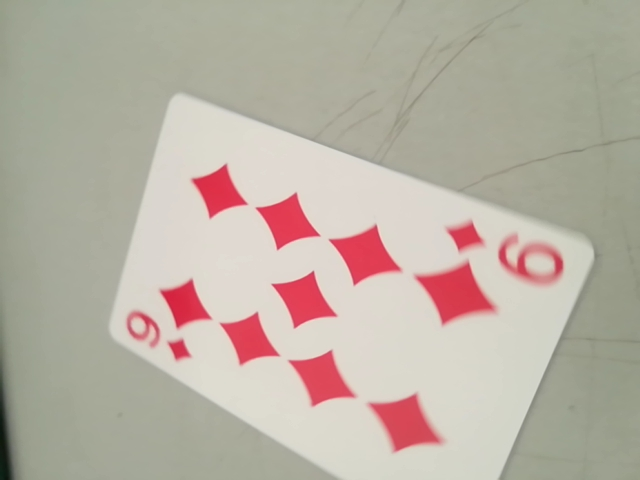fk 9: (431, 215, 576, 279), (116, 311, 202, 366)
